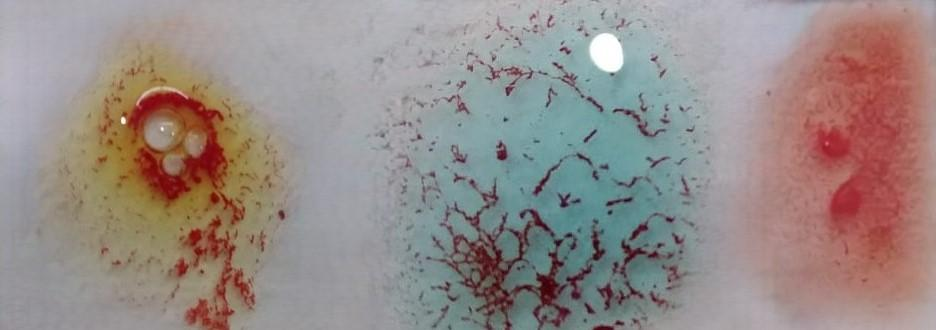A: (397, 5, 696, 330)
B: (59, 44, 301, 330)
D: (765, 2, 936, 330)
